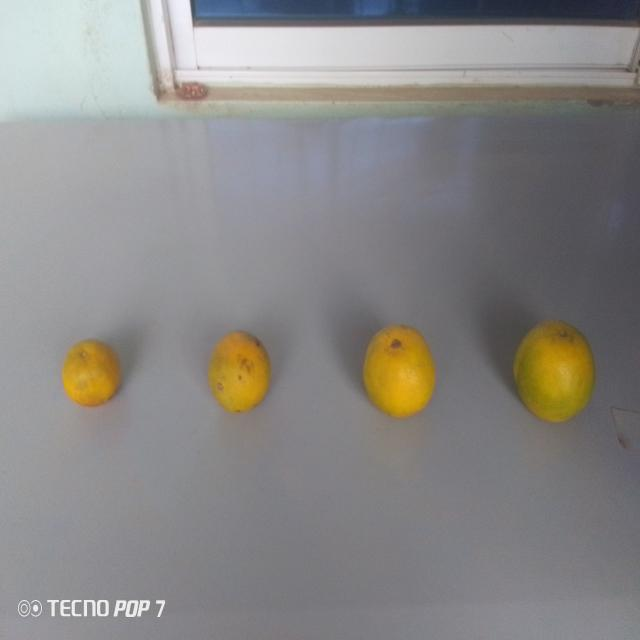Ripe orange: (514, 316, 596, 434), (357, 320, 439, 420), (197, 316, 275, 418), (61, 334, 126, 412)
